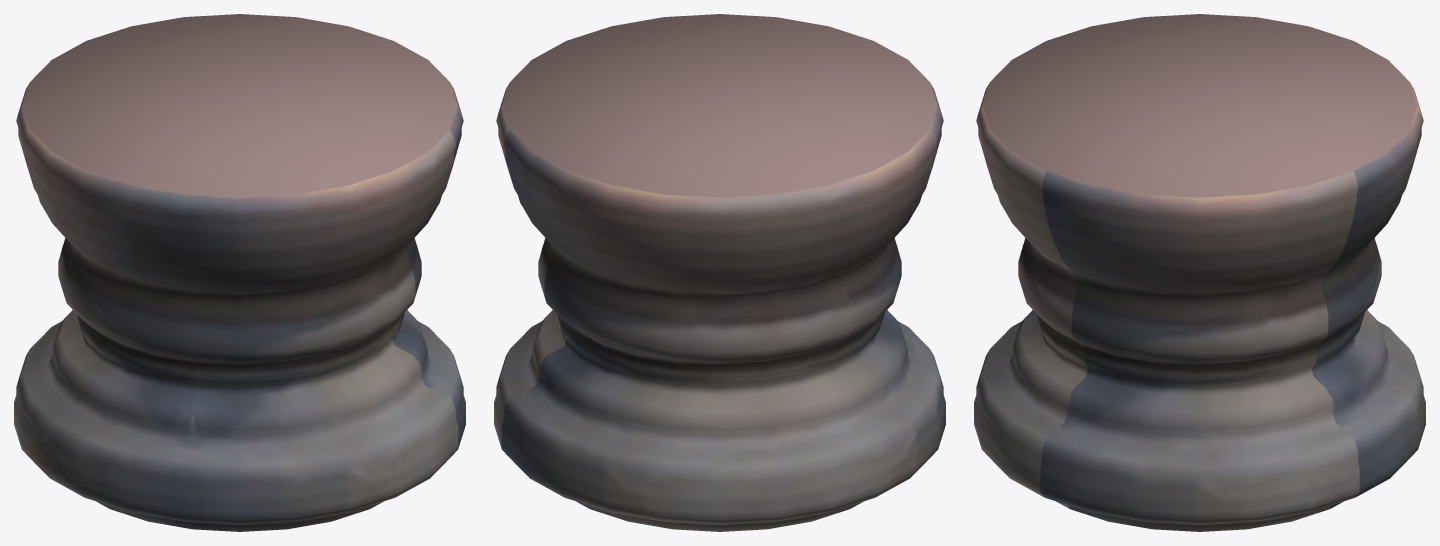
The model's file is arena-brazier.glb.
3 renders of one model, left to right at view 1: azimuth 30°, elevation 25°; view 2: azimuth 150°, elevation 25°; view 3: azimuth 270°, elevation 25°, orthographic.
Parts seen in each view (by area): view 1: piece; view 2: piece; view 3: piece.
Part boxes in pixels (<box>): piece: <box>14,14,465,531</box>; piece: <box>494,14,945,531</box>; piece: <box>974,14,1425,531</box>.
Bounding box in the file's own units: 1.15 × 1 × 1.15.
Materials: 1 (1 with a texture image).
